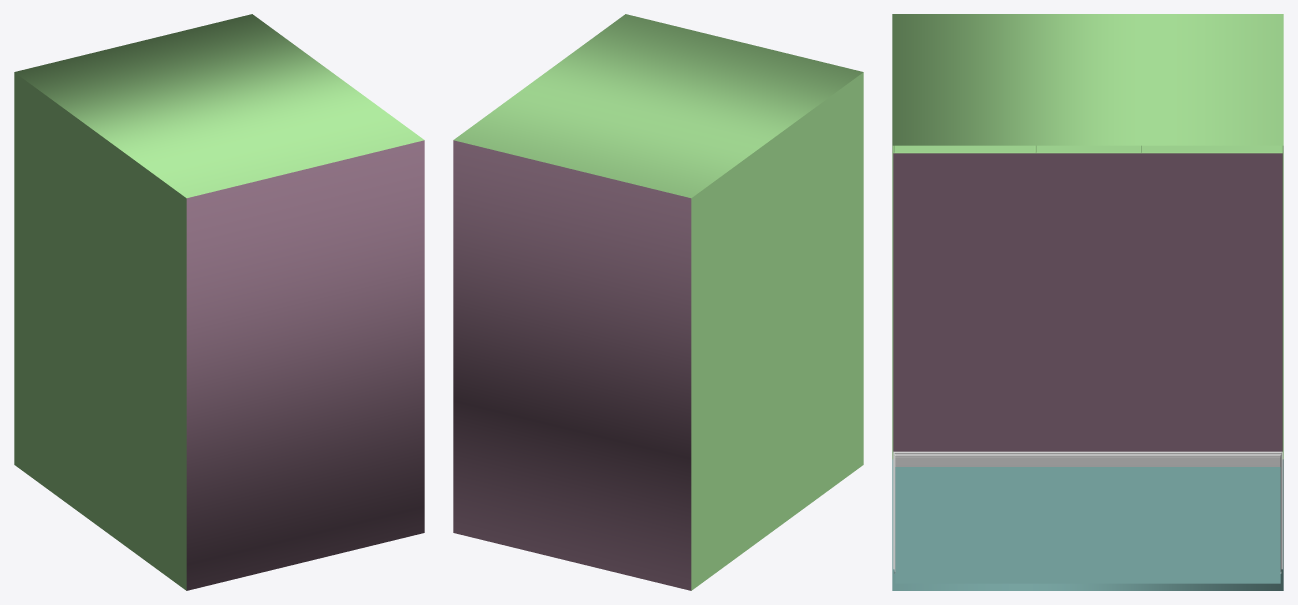
File: Lvl_0_Corridor_endpiece_no_door_w_light.fbx
The picture shows the model from 3 angles, left to right: view 1: azimuth 30°, elevation 25°; view 2: azimuth 150°, elevation 25°; view 3: azimuth 270°, elevation 25°; orthographic projection. The views are drawn at different scales.
Visible parts, largest first — view 1: Corridor_wall; view 2: Corridor_wall; view 3: Corridor_wall, Corridor_floor, Corridor_ceiling.
Part boxes in pixels (left/top/right/bottom): Corridor_wall: left=14, top=14, right=424, bottom=590; Corridor_wall: left=453, top=14, right=863, bottom=590; Corridor_wall: left=892, top=14, right=1283, bottom=590; Corridor_floor: left=895, top=467, right=1280, bottom=583; Corridor_ceiling: left=893, top=145, right=1282, bottom=153.
Size of the model in its own units: 1.97 by 3.1 by 2.47.
